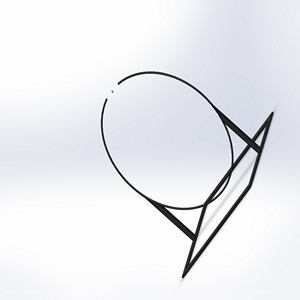circle: (98, 70, 273, 280)
